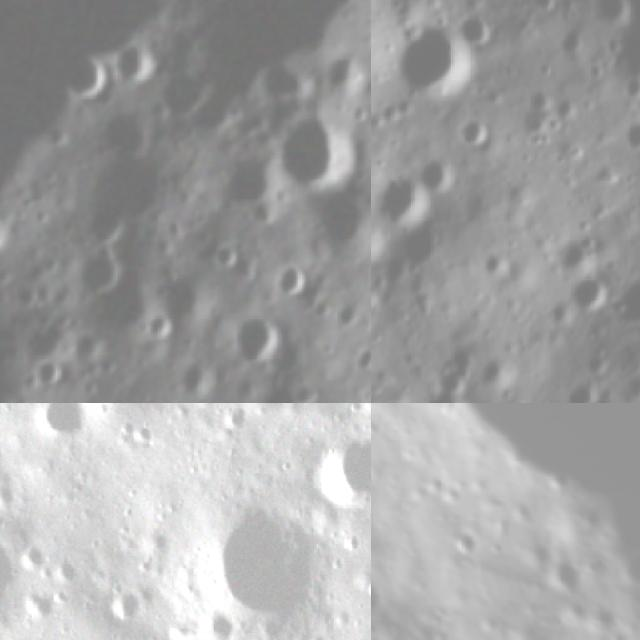crater: (185, 499, 322, 637), (270, 115, 362, 203), (392, 26, 483, 104), (311, 428, 371, 510), (75, 237, 132, 310), (230, 309, 291, 370), (58, 49, 114, 107), (374, 174, 436, 226), (113, 36, 168, 78), (0, 529, 28, 610), (454, 11, 498, 53), (32, 403, 89, 435), (416, 152, 459, 194), (24, 353, 66, 394), (569, 272, 610, 314), (574, 500, 617, 540), (136, 304, 177, 344), (266, 258, 310, 295), (546, 557, 588, 595), (612, 276, 640, 330), (205, 233, 239, 274), (458, 115, 495, 148), (559, 387, 628, 403), (371, 214, 388, 268), (458, 526, 479, 561), (621, 114, 640, 152), (420, 389, 471, 403), (546, 471, 574, 495), (0, 201, 11, 258), (371, 573, 382, 618)
